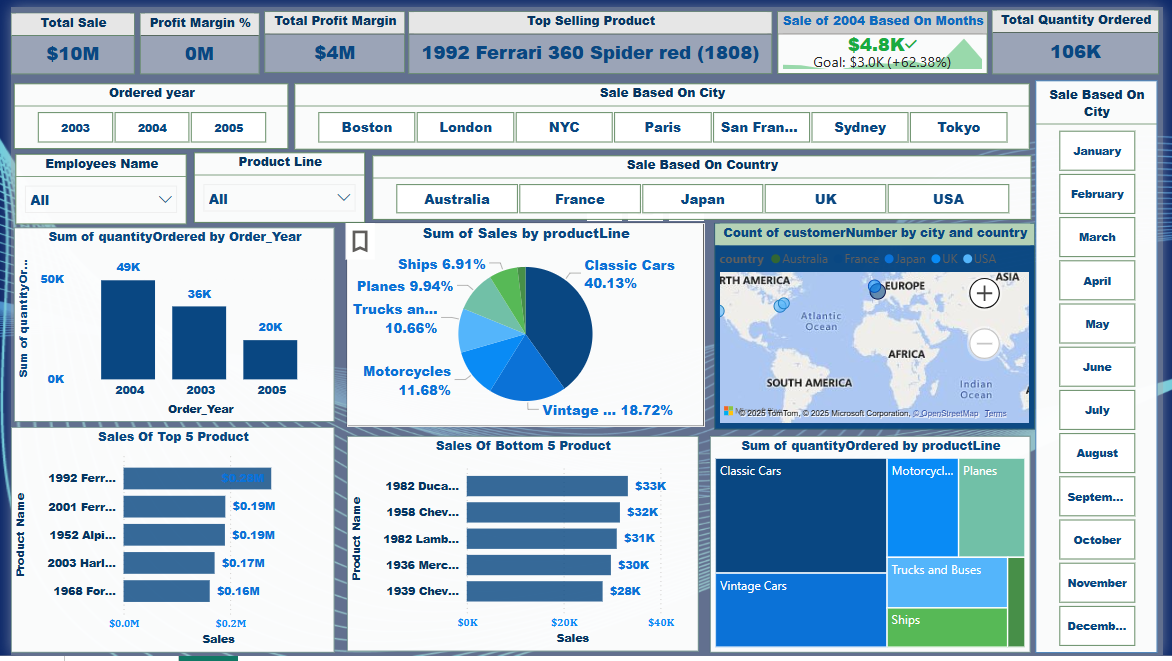

This screenshot's page, from the dashboard's own definition file:
{"tool":"powerbi","page":{"name":"Page 1","canvas":[1280,720],"ordinal":0},"visuals":[{"type":"card","title":"Total Profit Margin","fields":{"Values":["order details.total_profit"]},"box":[281.4,5.2,156.1,68.3],"z":0},{"type":"card","title":"Top Selling Product","fields":{"Values":["order details.Most Ordered Product with Quantity"]},"box":[442.3,5.6,404.2,69.6],"z":1000},{"type":"barChart","title":"Sales Of Top 5 Product","fields":{"Y":["Sum(order details.Sales)"],"Category":["products.productName"]},"box":[0,466.8,359.5,250.5],"z":2000},{"type":"pieChart","fields":{"Y":["Sum(order details.Sales)"],"Category":["productlines.productLine"]},"box":[374.1,240.7,396.9,226.1],"z":3000},{"type":"slicer","title":"Ordered year","fields":{"Values":["orders.Order_Year"]},"box":[3.3,85.1,304.8,72.9],"z":4000},{"type":"card","title":"Total Quantity Ordered","fields":{"Values":["Sum(order details.quantityOrdered)"]},"box":[1090,4,185.5,71.2],"z":5000},{"type":"kpi","title":"Sale of 2004 Based  On Months","fields":{"TrendLine":["orders.Month Name"],"Indicator":["orders.Sale_2004"],"Goal":["orders.Sale_2003"]},"box":[851.4,5.6,233.6,69.6],"z":6000},{"type":"columnChart","fields":{"Category":["orders.Order_Year"],"Y":["Sum(order details.quantityOrdered)"]},"box":[3.3,245.6,356.2,216.3],"z":7000},{"type":"treemap","fields":{"Group":["productlines.productLine"],"Values":["Sum(order details.quantityOrdered)"]},"box":[777.5,476.6,356.2,240.7],"z":8000},{"type":"map","fields":{"Category":["offices.city"],"Series":["offices.country"],"Size":["Count(customers.customerNumber)"]},"box":[782.4,240.7,356.2,229.3],"z":9000},{"type":"card","title":"Total Sale","fields":{"Values":["Sum(order details.Sales)"]},"box":[0,7.3,137.5,67.9],"z":10000},{"type":"card","title":"Profit Margin %","fields":{"Values":["classicmodels.Profit_Margin_%"]},"box":[144.1,7.3,132.5,67.9],"z":11000},{"type":"slicer","title":"Sale Based On City","fields":{"Values":["offices.city"]},"box":[315.5,84.6,816.5,73.2],"z":12000},{"type":"slicer","title":"Sale Based On City","fields":{"Values":["orders.Month Name"]},"box":[1138.6,81.3,135,636],"z":13000},{"type":"slicer","title":"Employees Name","fields":{"Values":["employees.FullName"]},"box":[4.9,162.9,190.3,78.1],"z":14000},{"type":"slicer","title":"Product Line","fields":{"Values":["productlines.productLine"]},"box":[203.3,161.3,190.3,78.1],"z":15000},{"type":"slicer","title":"Sale Based On Country","fields":{"Values":["offices.country"]},"box":[401.8,164.3,731.9,71.6],"z":16000},{"type":"clusteredBarChart","title":"Sales Of Bottom 5 Product","fields":{"Category":["products.productName"],"Y":["Sum(order details.Sales)"]},"box":[374.1,476.6,390.4,239.1],"z":17000},{"type":"actionButton","box":[372.5,240.7,32.5,40.7],"z":18000}]}

Visuals, with their boxes in screenshot pixels (x1, y1, x2, y2), scaled from the page's 1280x720 canvas onto the 1172x661 screenshot:
"Total Profit Margin" card: select_region(258, 5, 401, 67)
"Top Selling Product" card: select_region(405, 5, 775, 69)
"Sales Of Top 5 Product" barChart: select_region(0, 429, 329, 659)
pieChart - Sum(order details.Sales) x productlines.productLine: select_region(343, 221, 706, 429)
"Ordered year" slicer: select_region(3, 78, 282, 145)
"Total Quantity Ordered" card: select_region(998, 4, 1168, 69)
"Sale of 2004 Based  On Months" kpi: select_region(780, 5, 993, 69)
columnChart - orders.Order_Year x Sum(order details.quantityOrdered): select_region(3, 225, 329, 424)
treemap - productlines.productLine x Sum(order details.quantityOrdered): select_region(712, 438, 1038, 659)
map - offices.city x offices.country: select_region(716, 221, 1043, 431)
"Total Sale" card: select_region(0, 7, 126, 69)
"Profit Margin %" card: select_region(132, 7, 253, 69)
"Sale Based On City" slicer: select_region(289, 78, 1036, 145)
"Sale Based On City" slicer: select_region(1043, 75, 1166, 659)
"Employees Name" slicer: select_region(4, 150, 179, 221)
"Product Line" slicer: select_region(186, 148, 360, 220)
"Sale Based On Country" slicer: select_region(368, 151, 1038, 217)
"Sales Of Bottom 5 Product" clusteredBarChart: select_region(343, 438, 700, 657)
actionButton: select_region(341, 221, 371, 258)
